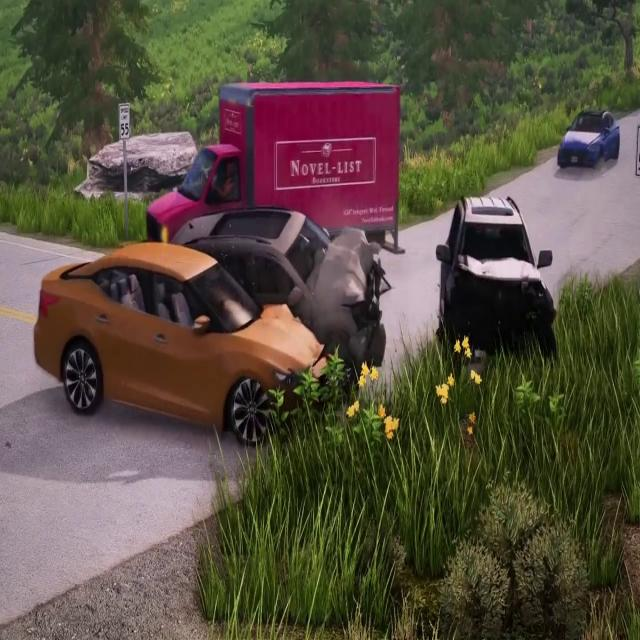accident: (30, 210, 392, 422)
